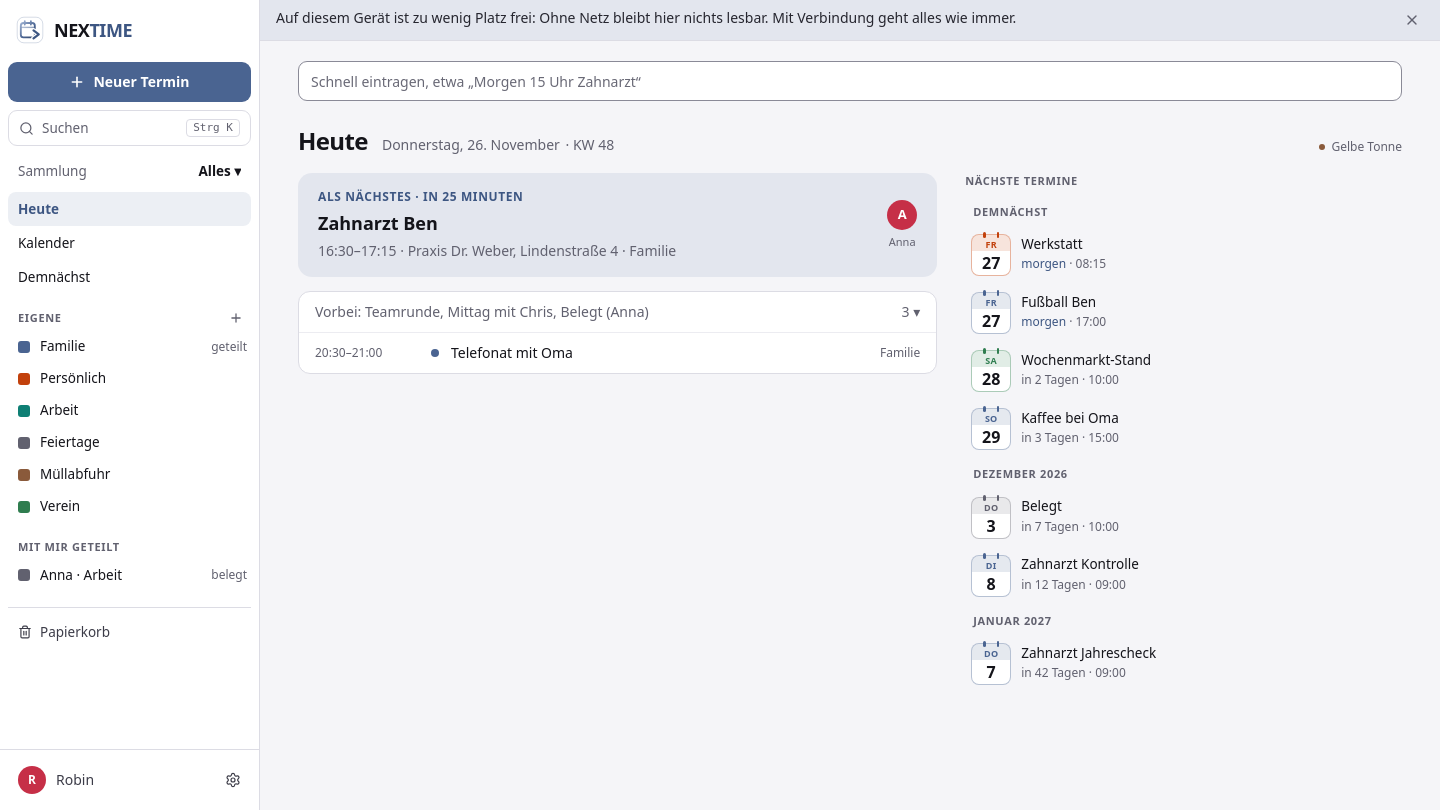
Test: TIME-28 what is kept › TIME-28 EC-2 too little room: nextime works on, without reading offline, and says so once
Click the button named "Hinweis ausblenden". click: [1412, 20]
box: [1400,8,1424,32]
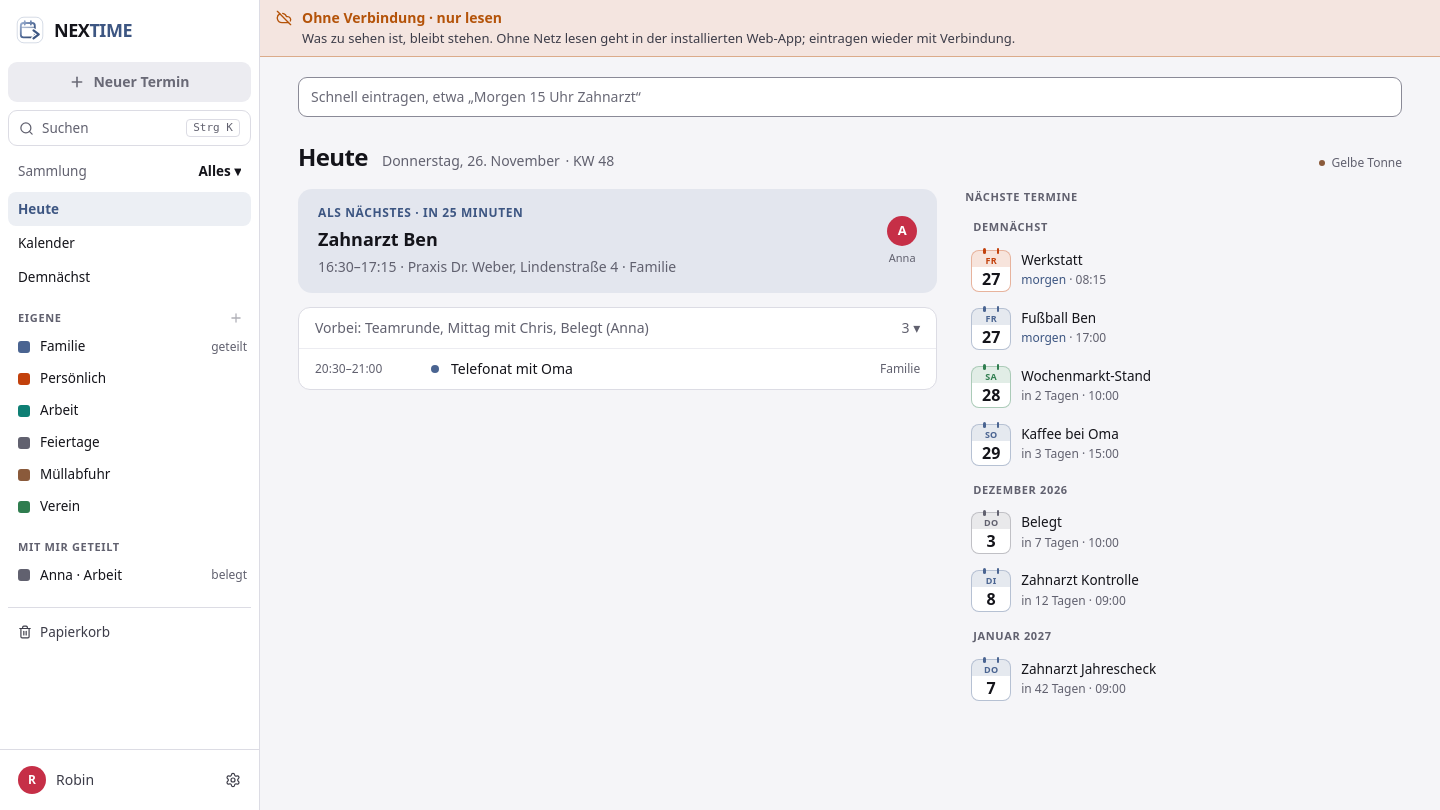
Result: the text "Ohne Verbindung · nur lesen" is shown at [302,8,502,27]
